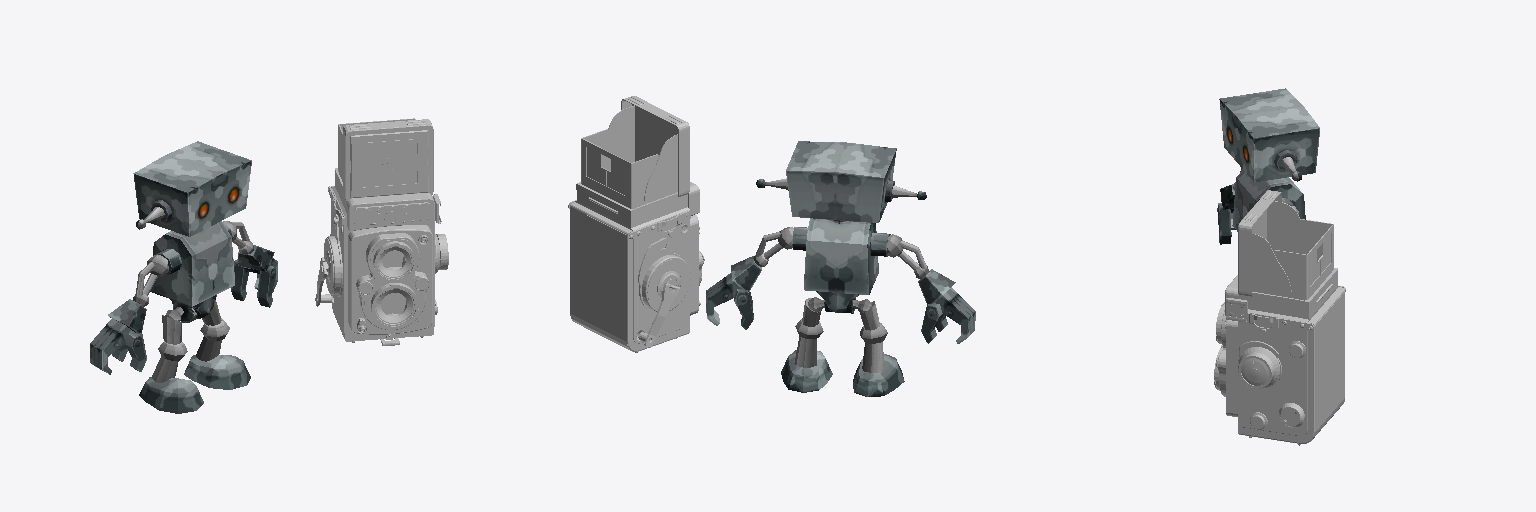
3 renders of one model, left to right at view 1: azimuth 30°, elevation 25°; view 2: azimuth 150°, elevation 25°; view 3: azimuth 270°, elevation 25°, orthographic.
Parts seen in each view (by area): view 1: Robot, Yashica.001; view 2: Yashica.001, Robot; view 3: Yashica.001, Robot.
Boxes of the visible parts, <box> form: Robot: <box>90,141,277,413</box>; Yashica.001: <box>315,118,448,345</box>; Yashica.001: <box>568,96,704,352</box>; Robot: <box>706,141,975,396</box>; Yashica.001: <box>1214,190,1345,445</box>; Robot: <box>1217,88,1319,244</box>.
Size of the model in its own units: 20.24 by 11.78 by 6.32.
Materials: 2 (1 with a texture image).